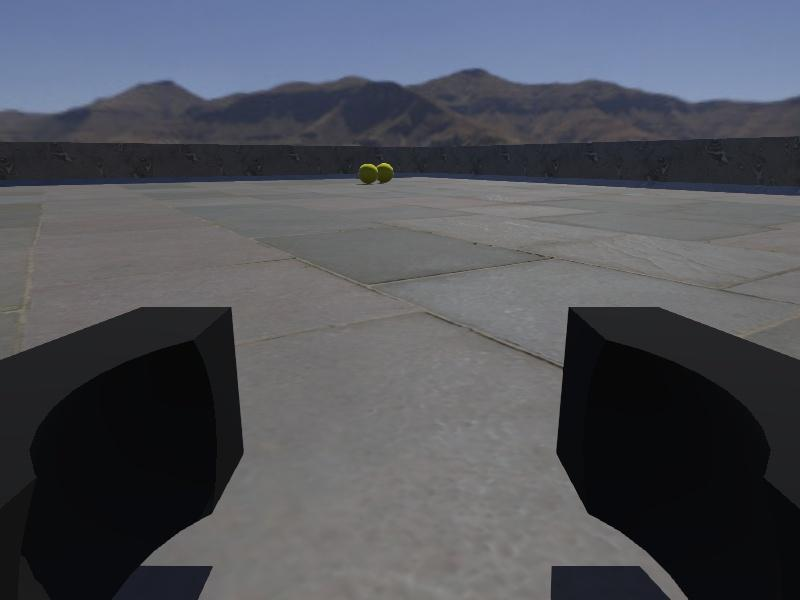yellow ball: (357, 163, 378, 183)
